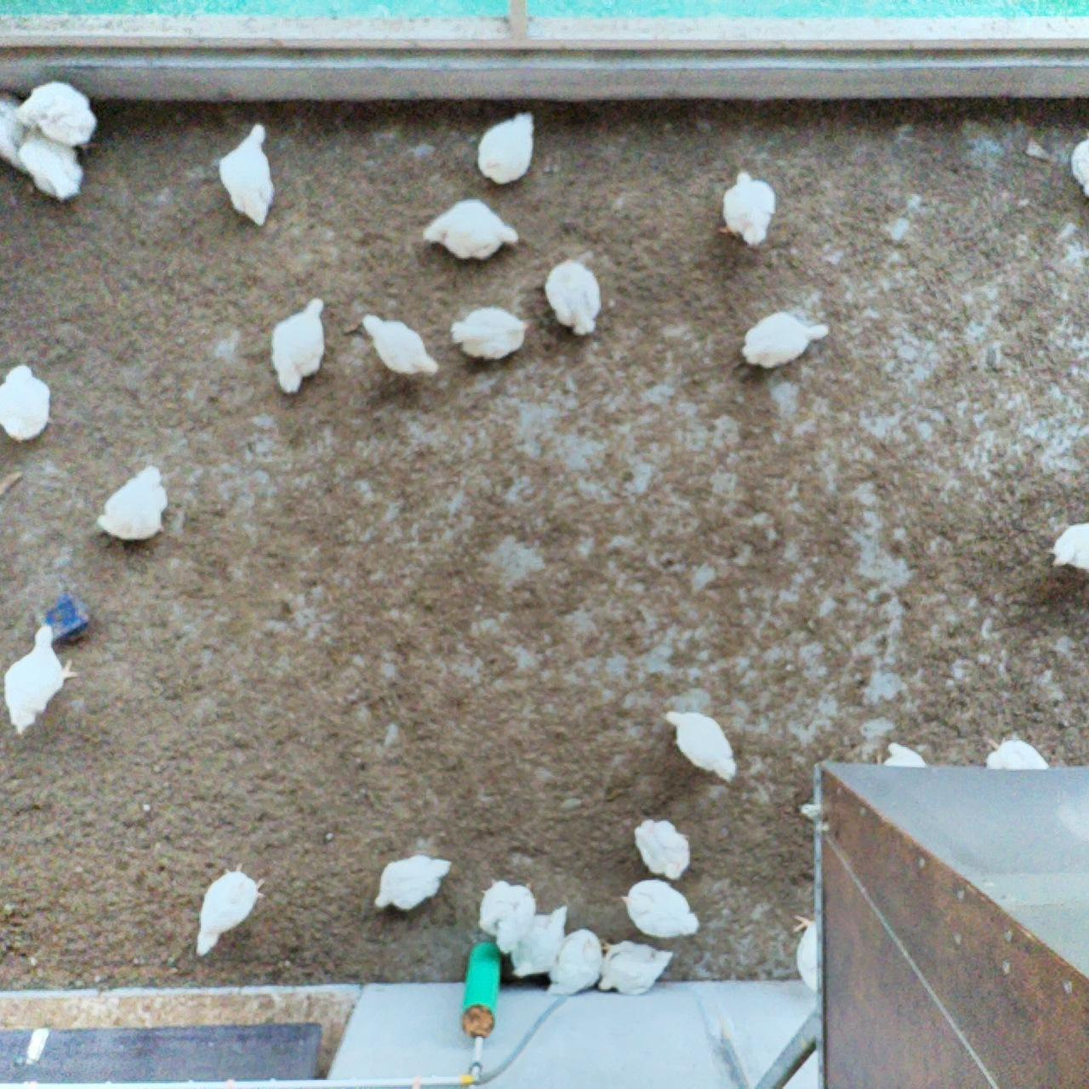chicken: (0, 622, 77, 736), (194, 861, 269, 964), (417, 195, 526, 262), (93, 462, 175, 549), (735, 303, 833, 374), (267, 295, 332, 399), (215, 120, 274, 234), (662, 704, 739, 783), (361, 308, 443, 380), (446, 301, 536, 366), (537, 251, 605, 337), (715, 164, 780, 252), (619, 875, 704, 942), (12, 80, 99, 145), (14, 131, 89, 204), (596, 936, 681, 997), (371, 853, 454, 915), (475, 108, 539, 188), (508, 902, 570, 982), (0, 362, 55, 447), (476, 875, 538, 950), (544, 925, 605, 999), (631, 817, 695, 882), (976, 730, 1051, 774), (1041, 516, 1089, 577), (788, 908, 821, 990)
